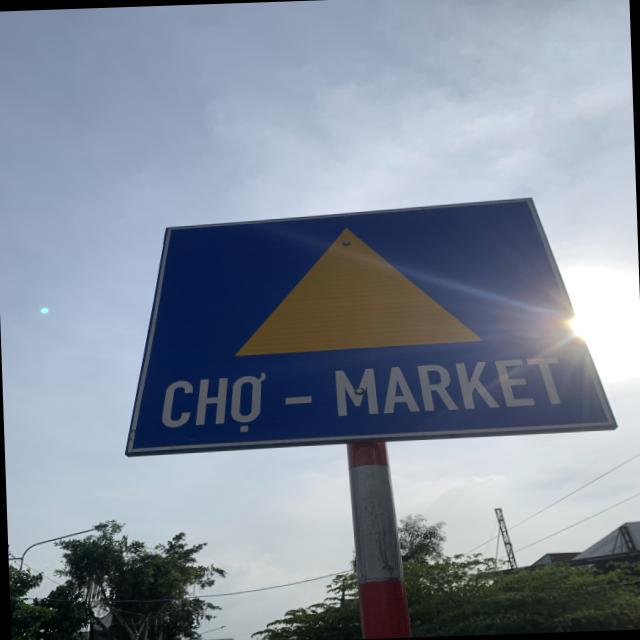Cho_Quay_Xe: (114, 193, 612, 450)
